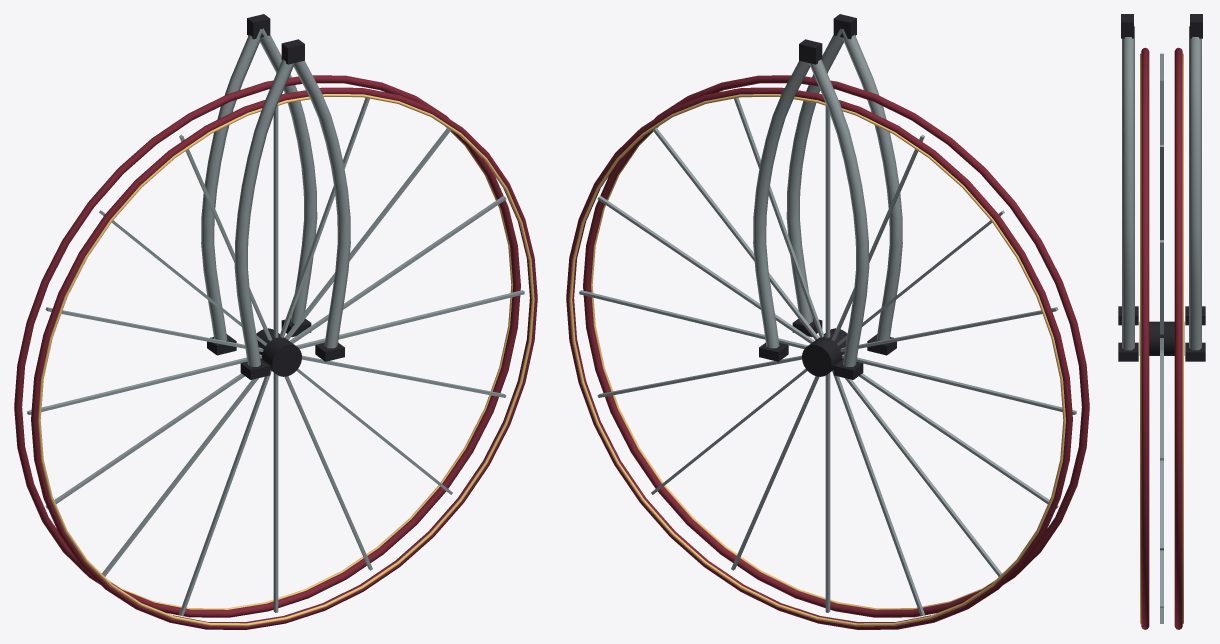
File: mia-ferris_wheel.glb
The picture shows the model from 3 angles, left to right: view 1: azimuth 30°, elevation 25°; view 2: azimuth 150°, elevation 25°; view 3: azimuth 270°, elevation 25°; orthographic projection.
Visible parts, largest first — view 1: Wheel_velvet, Wheel_steel, Body_steel, Wheel_trim, Body_iron, Wheel_iron; view 2: Wheel_velvet, Wheel_steel, Body_steel, Wheel_trim, Body_iron, Wheel_iron; view 3: Wheel_velvet, Body_steel, Wheel_trim, Wheel_steel, Body_iron, Wheel_iron.
Part boxes in pixels (<box>): Wheel_velvet: <box>14,75,537,629</box>; Wheel_steel: <box>27,89,524,616</box>; Body_steel: <box>201,28,350,366</box>; Wheel_trim: <box>38,94,534,626</box>; Body_iron: <box>207,14,344,379</box>; Wheel_iron: <box>256,328,301,376</box>; Wheel_velvet: <box>566,75,1089,629</box>; Wheel_steel: <box>579,89,1076,616</box>; Body_steel: <box>753,28,902,366</box>; Wheel_trim: <box>569,94,1065,626</box>; Body_iron: <box>759,14,896,379</box>; Wheel_iron: <box>802,328,847,376</box>; Wheel_velvet: <box>1141,47,1182,629</box>; Body_steel: <box>1122,26,1201,350</box>; Wheel_trim: <box>1140,53,1183,623</box>; Wheel_steel: <box>1160,53,1163,623</box>; Body_iron: <box>1118,14,1205,361</box>; Wheel_iron: <box>1139,321,1184,355</box>.
Bounding box in the file's own units: 12.17 × 13.47 × 1.82.
